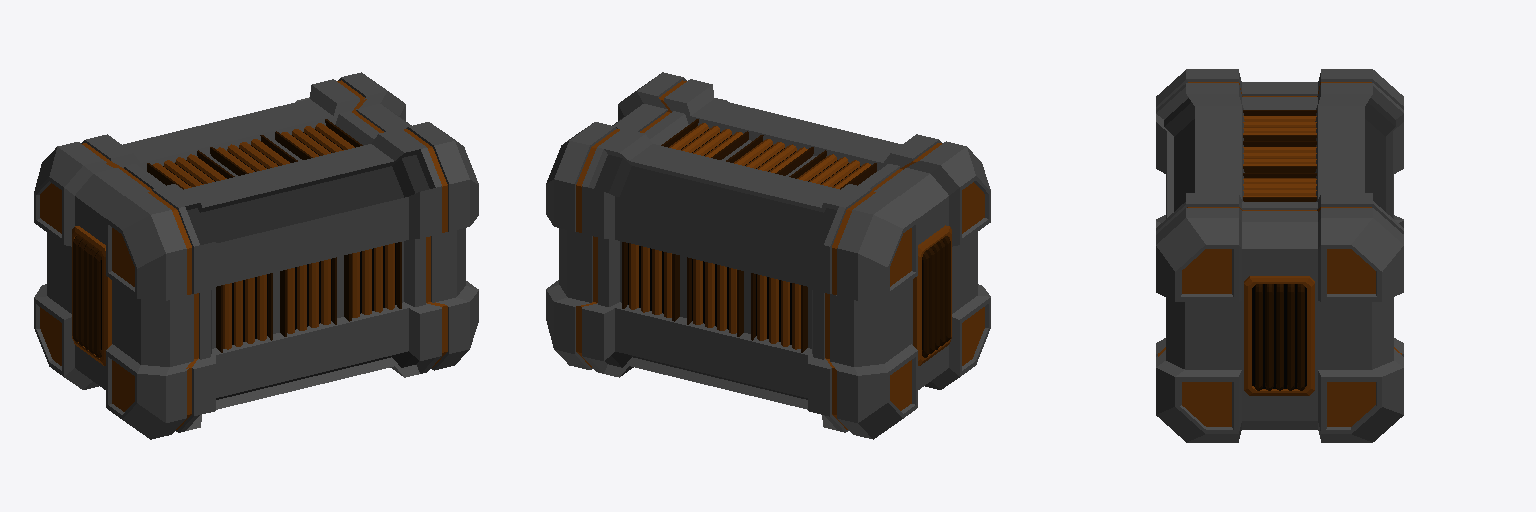
The model's file is Props_CrateLong.obj.
3 renders of one model, left to right at view 1: azimuth 30°, elevation 25°; view 2: azimuth 150°, elevation 25°; view 3: azimuth 270°, elevation 25°, orthographic.
Parts seen in each view (by area): view 1: Props_CrateLong_Cube.021; view 2: Props_CrateLong_Cube.021; view 3: Props_CrateLong_Cube.021.
Part boxes in pixels (x1,y1,x2,y2): Props_CrateLong_Cube.021: (34, 72, 478, 439); Props_CrateLong_Cube.021: (546, 72, 990, 439); Props_CrateLong_Cube.021: (1156, 69, 1403, 442).
Bounding box in the file's own units: 1.23 × 0.7698 × 0.7698.